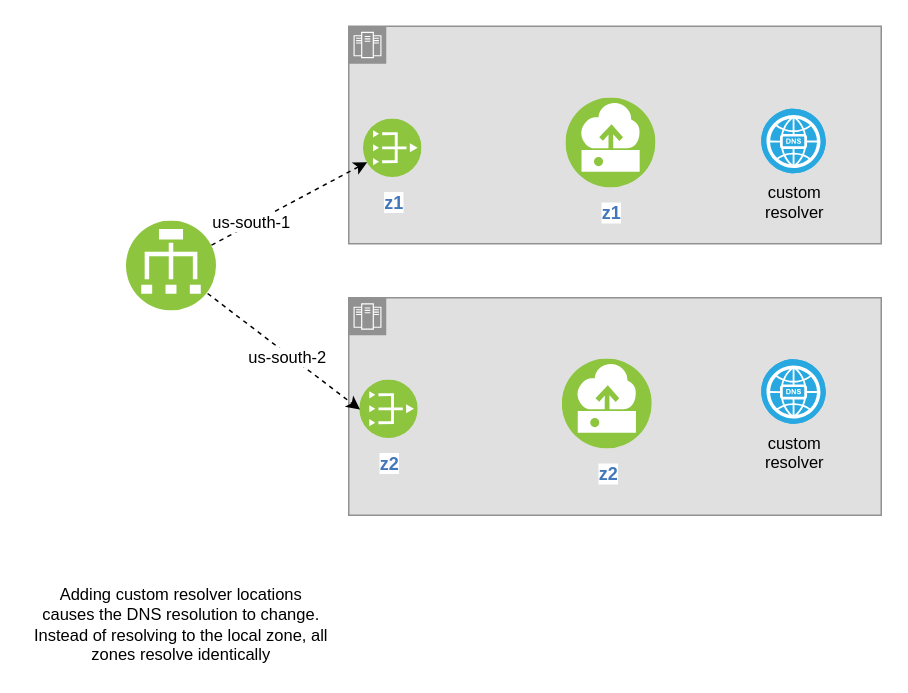
The diagram is 908 pixels wide and 693 high, and some of its shapes have lost their labels. Each missing label, with the box of its shape:
GLB service widgets.com: (126, 220, 216, 310)
zone-1: (347, 25, 881, 244)
zone-2: (347, 296, 881, 515)
